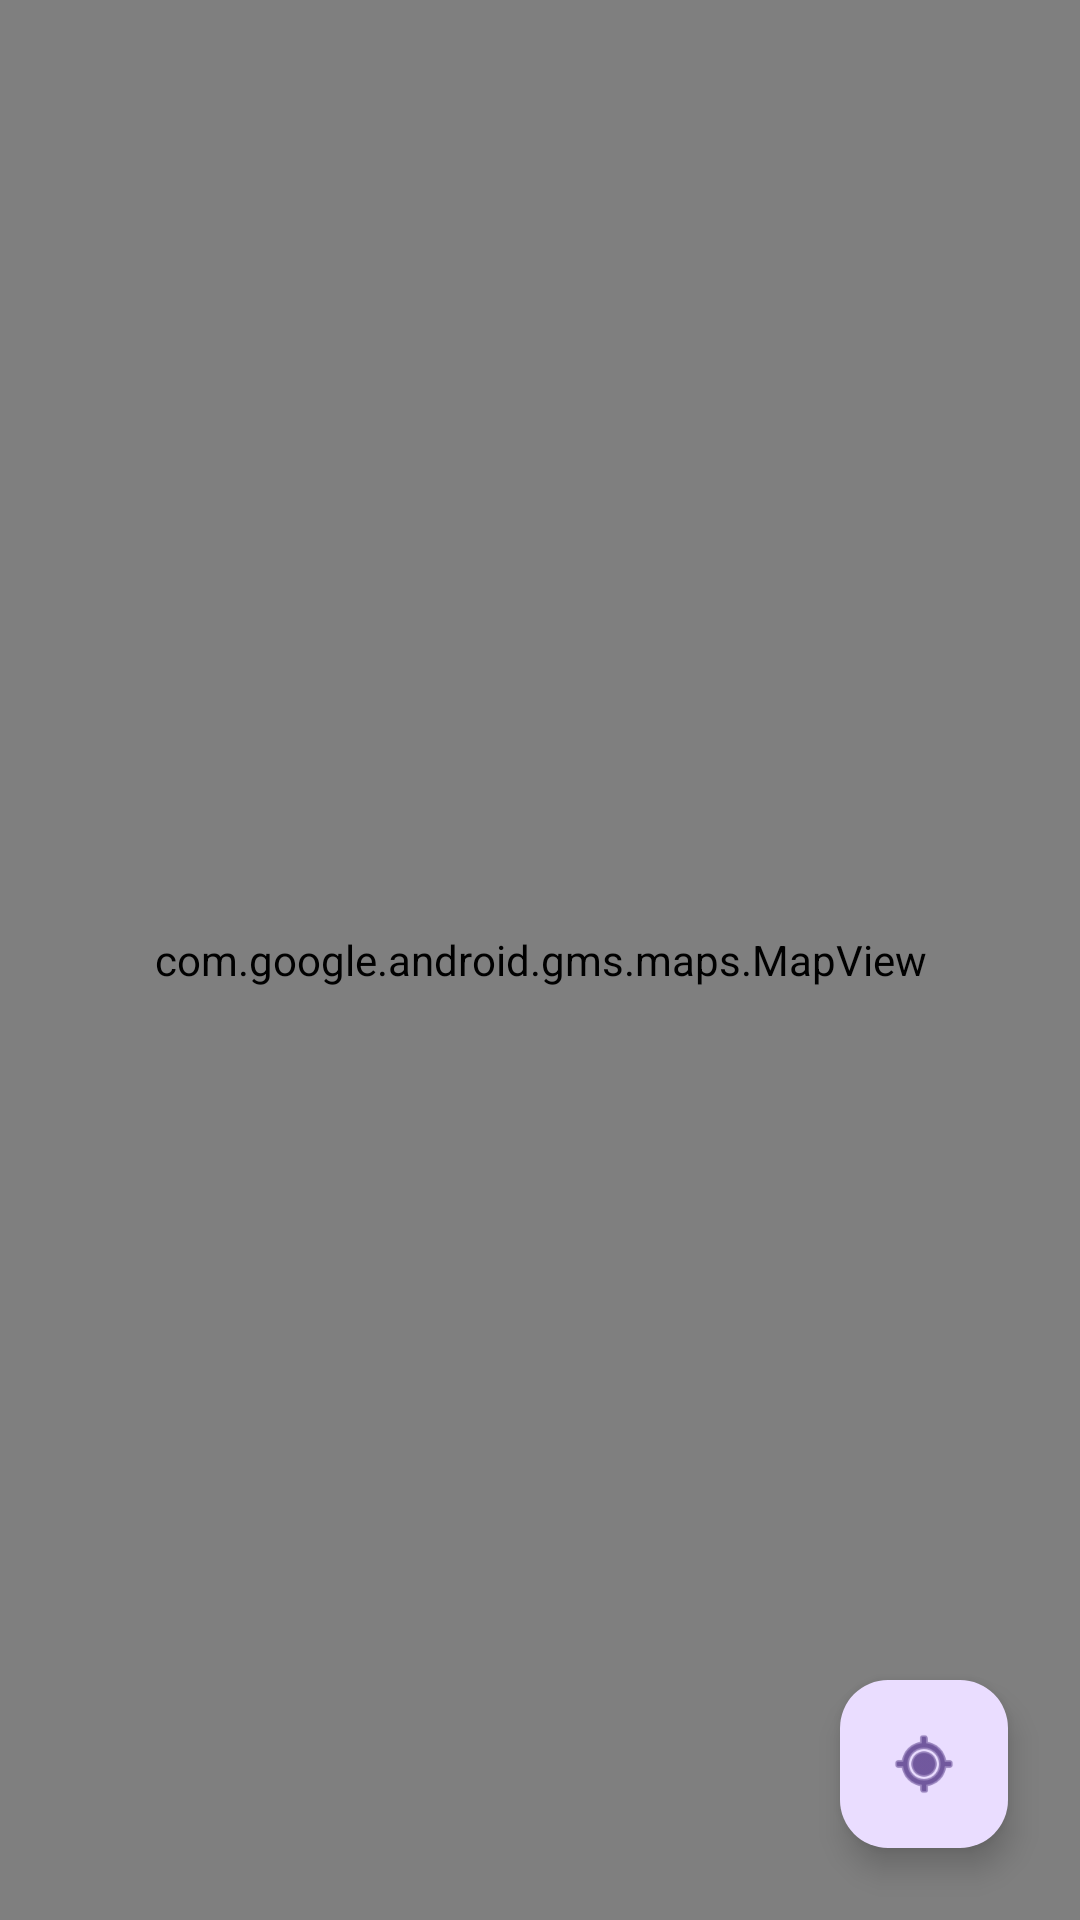

Locate icon controls on the screen. Image size 1080 × 1920, boxes as (x1, y1, x2, y2).
mylocation: (840, 1680, 1008, 1848)
